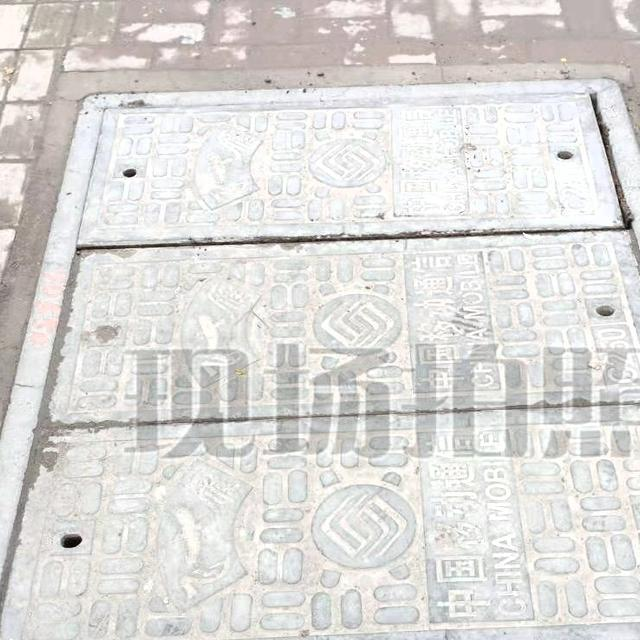good: (0, 74, 640, 640)
